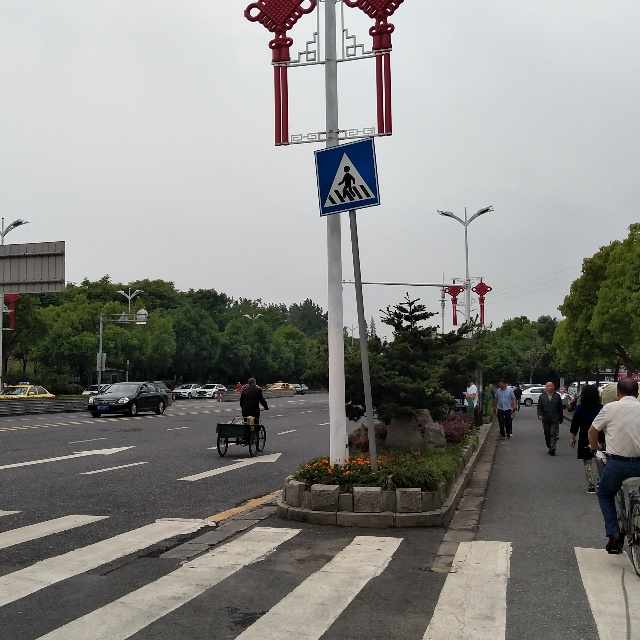crosswalk: (323, 152, 372, 211)
